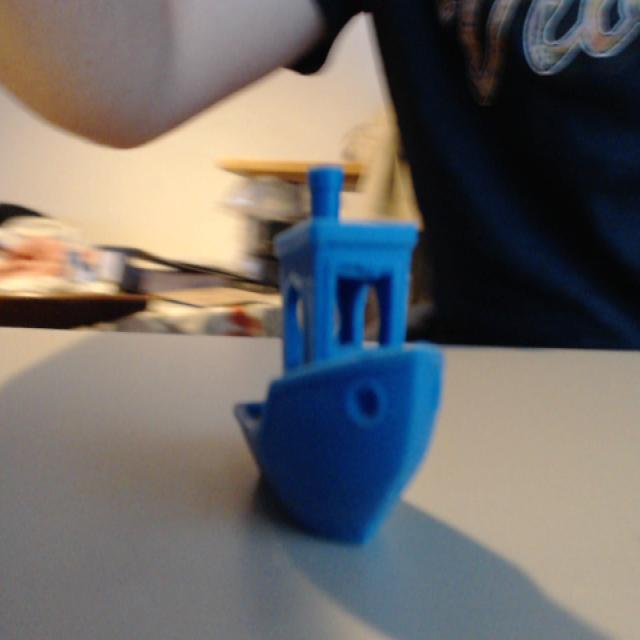benchy: (231, 162, 446, 546)
